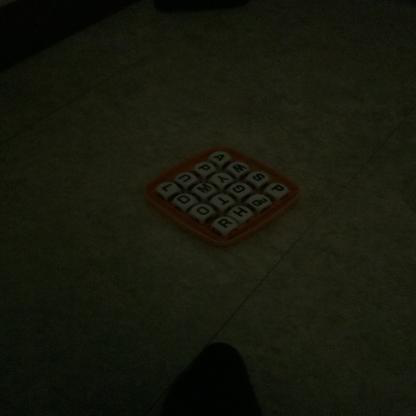a: (211, 153, 228, 164)
d: (175, 195, 194, 207)
g: (232, 184, 248, 196)
h: (231, 207, 251, 220)
l: (161, 183, 175, 194)
m: (197, 183, 215, 196)
o: (195, 206, 214, 219)
p: (197, 163, 213, 174), (270, 184, 286, 195)
qu: (252, 196, 270, 209)
r: (218, 218, 235, 230)
s: (252, 172, 267, 184)
t: (215, 197, 233, 208)
u: (177, 174, 194, 185)
w: (230, 163, 249, 175)
y: (216, 174, 231, 186)
